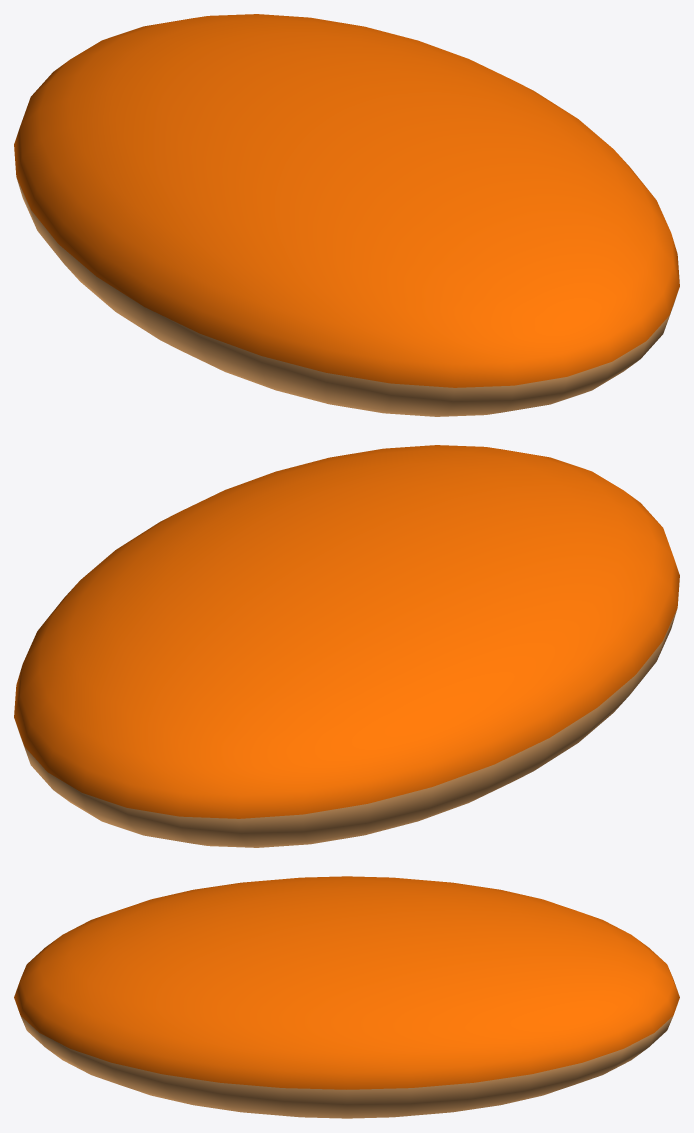
Rendered from menu_island4.glb.
3 renders of one model, top to bottom at view 1: azimuth 30°, elevation 25°; view 2: azimuth 150°, elevation 25°; view 3: azimuth 270°, elevation 25°, orthographic. The views are drawn at different scales.
Parts seen in each view (by area): view 1: Sphere.003; view 2: Sphere.003; view 3: Sphere.003.
Boxes of the visible parts, box(x1,y1,x2,y2) form: Sphere.003: box(14, 14, 679, 416); Sphere.003: box(14, 445, 679, 847); Sphere.003: box(14, 876, 679, 1118).
Size of the model in its own units: 0.9752 by 0.389 by 1.49.
